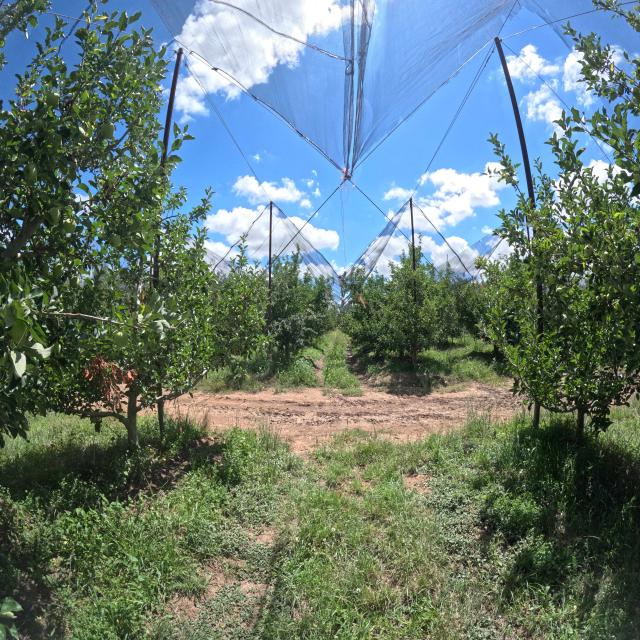-FireBlight-: (81, 353, 139, 412)
